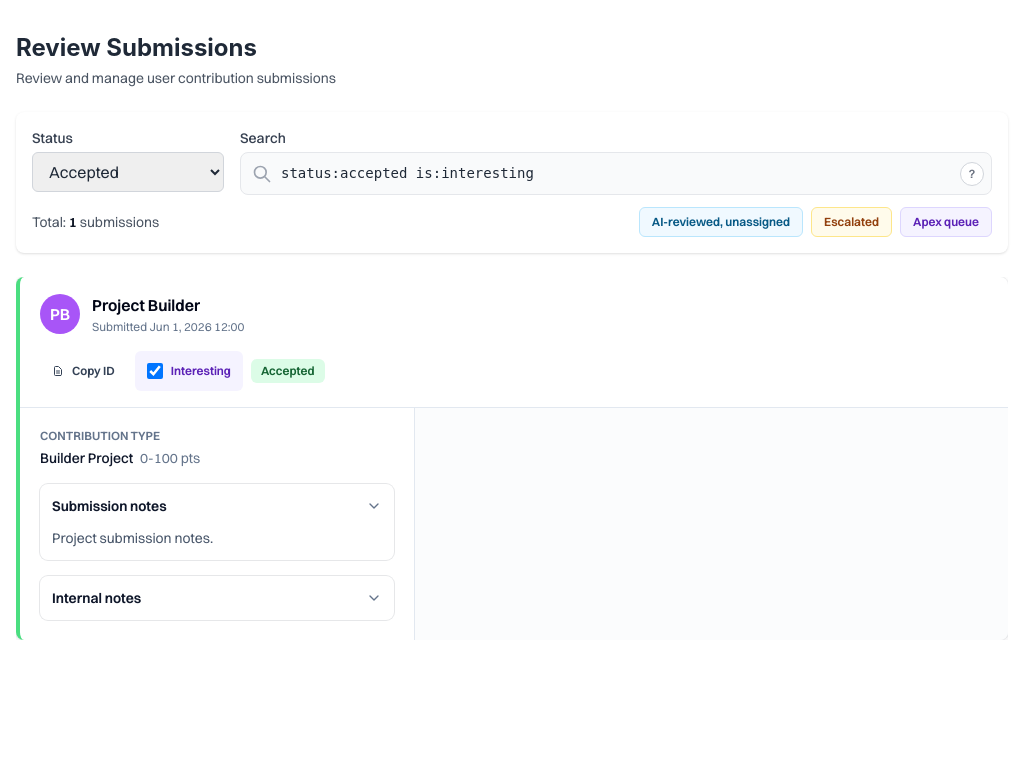
Test: Steward submissions queue shortcuts › removes a submission after it is unmarked in the Apex queue
The width and height of the screenshot is (1024, 768).
Click the checkbox labelled "Interesting".
click(155, 371)  # box [147,363,163,379]
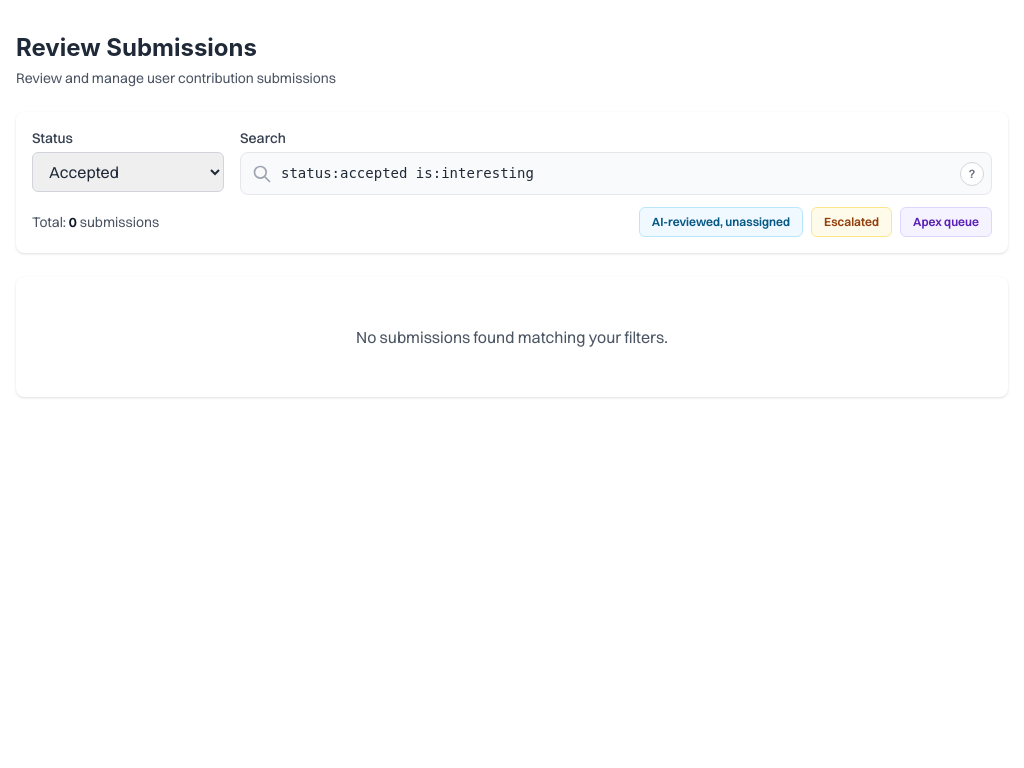
Expected: the text "0" is shown, [69,213,77,231]
Result: the text "No submissions found matching your filters." is shown at [356,327,668,347]
